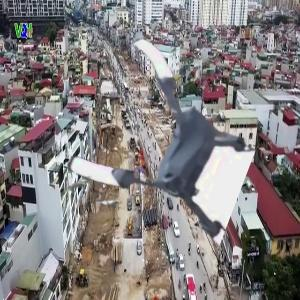drone: (77, 44, 257, 224)
